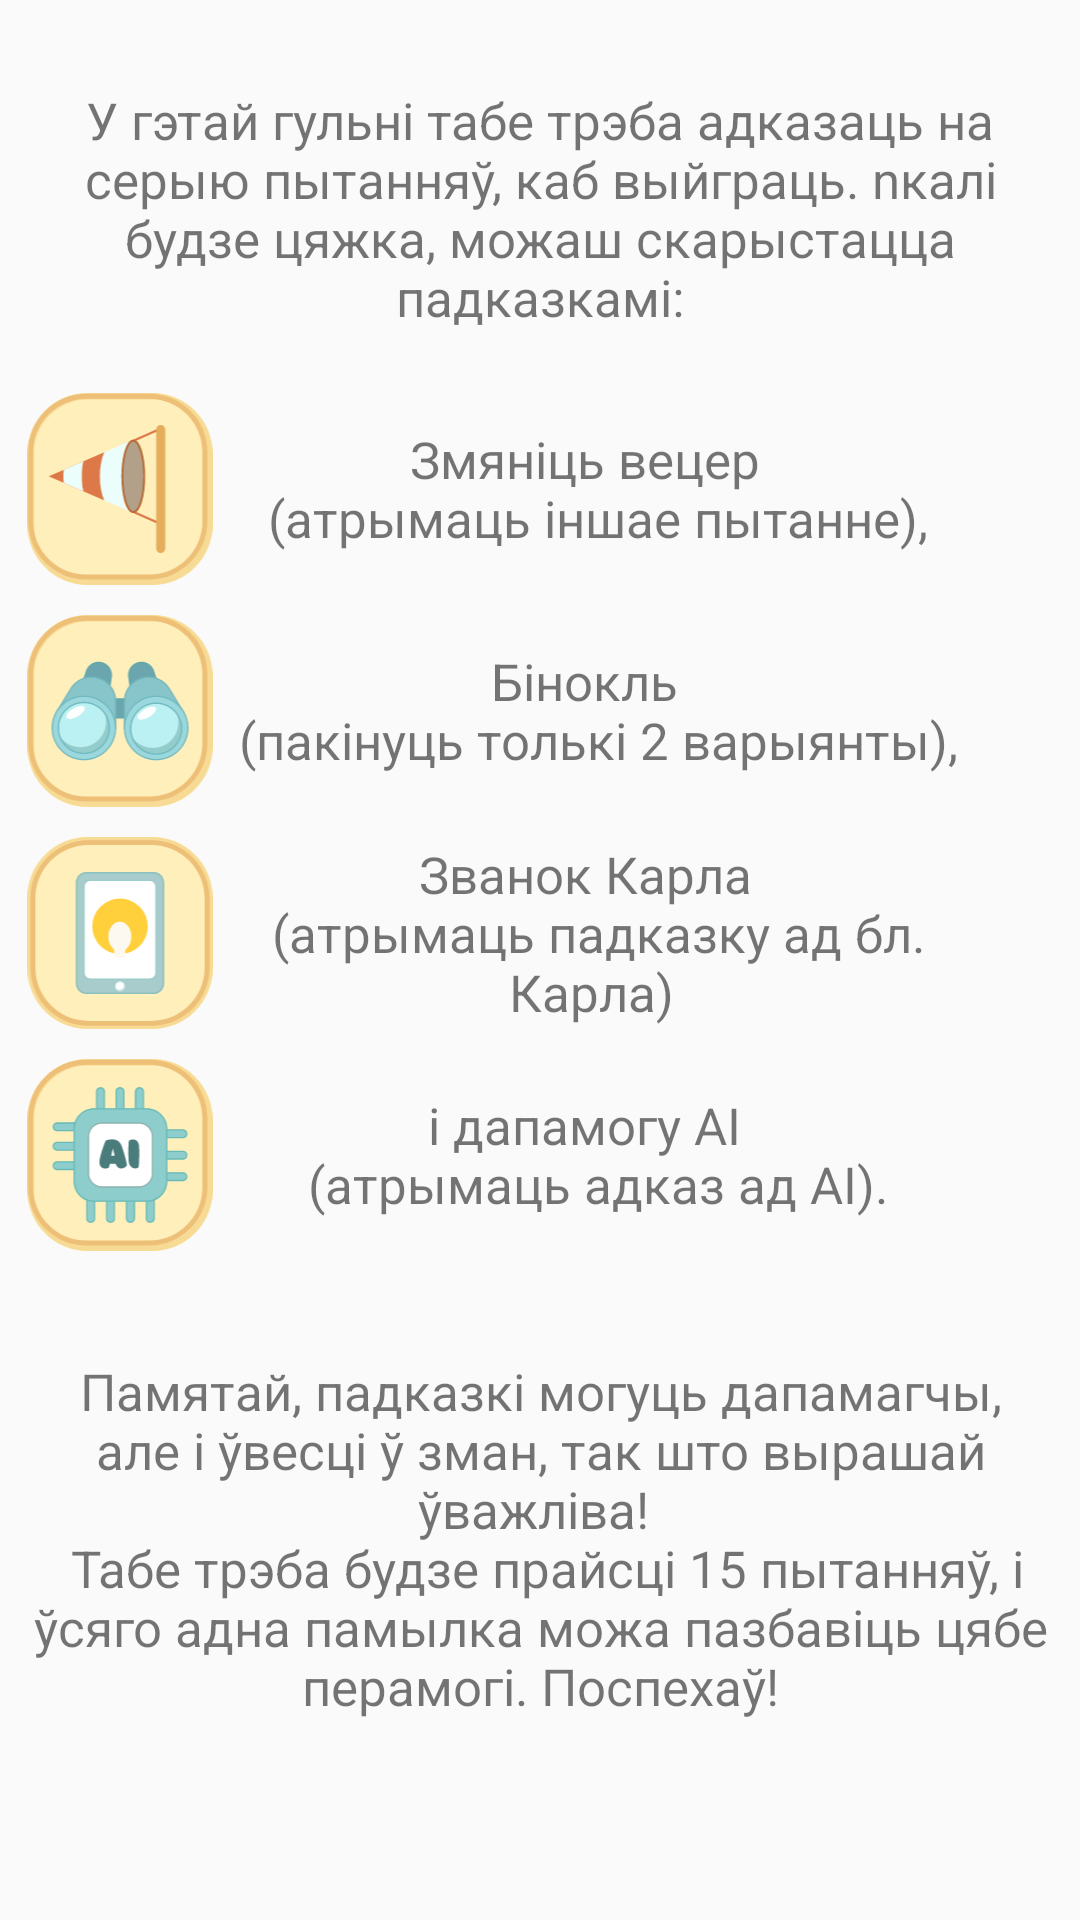

Icon click points for this 1080 x 1920 phone screenshot, format (x,y):
binoculars: (120,711)
phone: (120,933)
